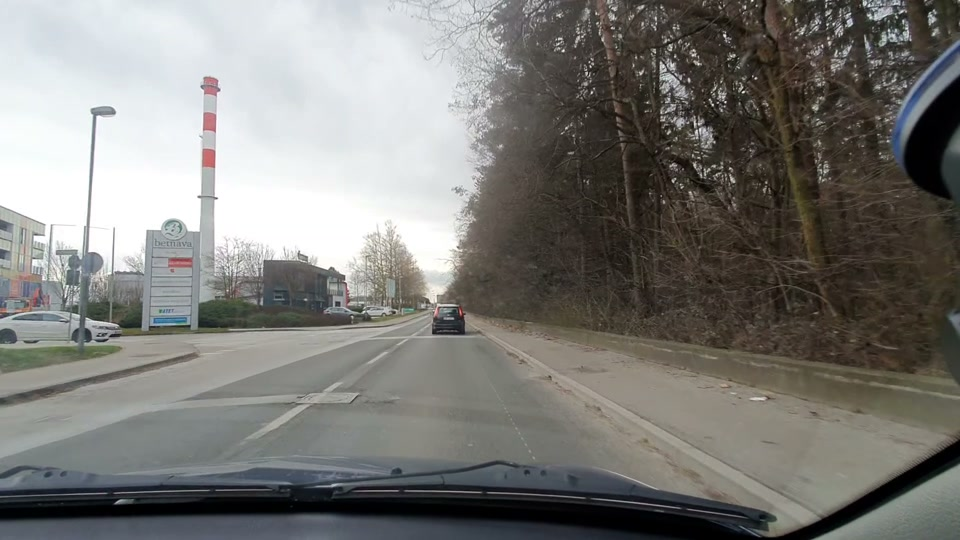vehicle_ign: (430, 302, 472, 338)
vehicle_l: (0, 309, 127, 346)
